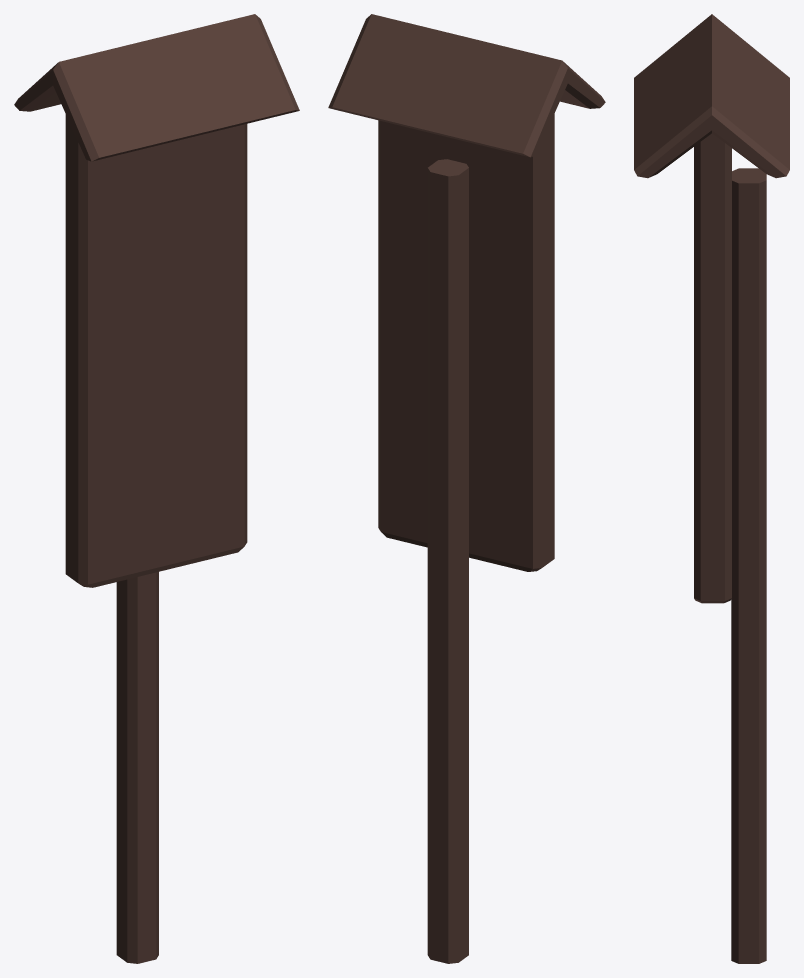
The model's file is PlacaDeMadeira.fbx.
3 renders of one model, left to right at view 1: azimuth 30°, elevation 25°; view 2: azimuth 150°, elevation 25°; view 3: azimuth 270°, elevation 25°, orthographic. The views are drawn at different scales.
Parts seen in each view (by area): view 1: PlacaDeMadeira; view 2: PlacaDeMadeira; view 3: PlacaDeMadeira.
Boxes of the visible parts, left/top/right/bottom form: PlacaDeMadeira: left=14, top=14, right=299, bottom=963; PlacaDeMadeira: left=328, top=14, right=605, bottom=963; PlacaDeMadeira: left=634, top=14, right=789, bottom=963.
Size of the model in its own units: 49.67 by 212 by 33.44.
